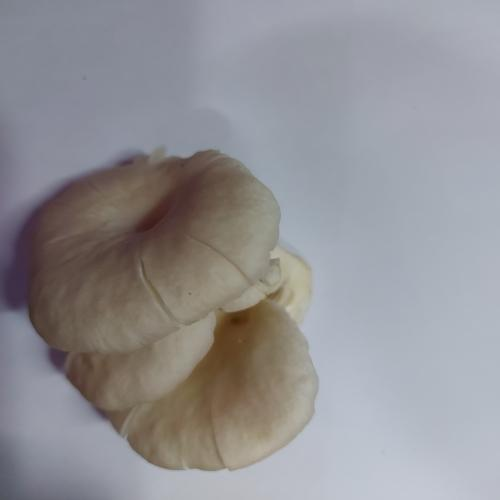Oyster Mushroom: (20, 145, 321, 472)
